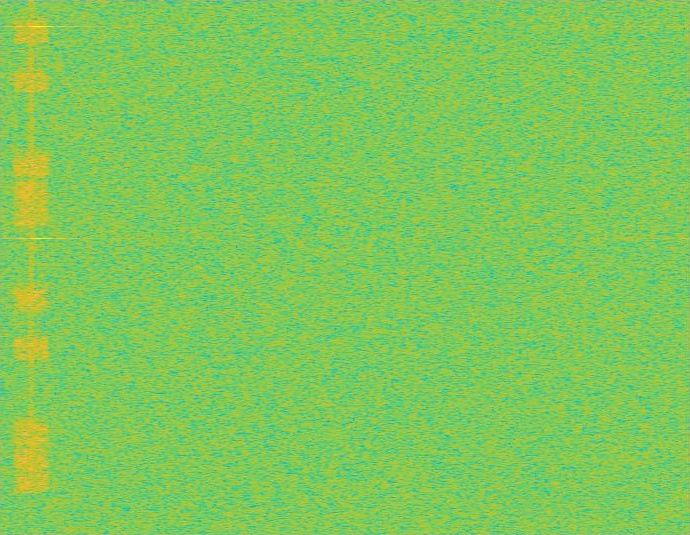DSSS: (29, 0, 34, 534)
LTE: (14, 0, 49, 534)
Radar: (34, 0, 48, 534)
